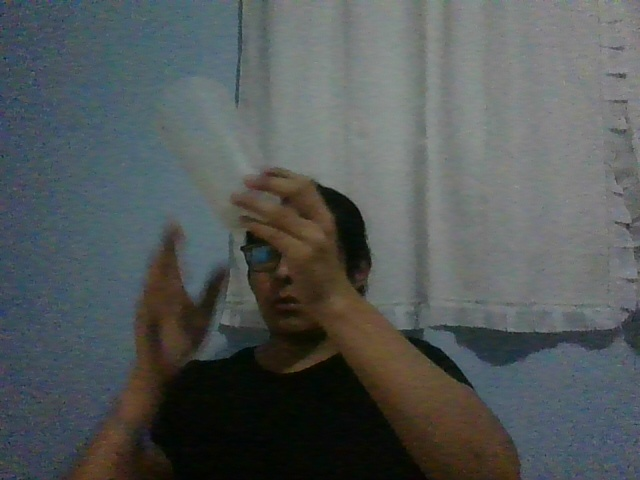vaso: (154, 75, 281, 232)
